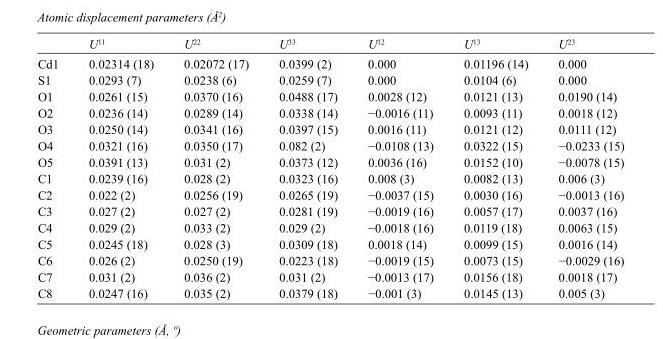table: (36, 36, 623, 299)
table column: (72, 36, 168, 299), (352, 36, 448, 299), (168, 36, 263, 299), (448, 36, 542, 299), (263, 36, 352, 299), (542, 36, 623, 299), (36, 36, 72, 299)
table column header: (36, 36, 623, 53)
table row: (36, 53, 623, 71), (36, 36, 623, 53), (36, 71, 623, 88), (36, 120, 623, 137), (36, 153, 623, 170), (36, 186, 623, 203), (36, 235, 623, 252), (36, 268, 623, 285), (36, 88, 623, 104), (36, 104, 623, 120), (36, 137, 623, 153), (36, 170, 623, 186), (36, 203, 623, 219), (36, 219, 623, 235), (36, 252, 623, 268), (36, 285, 623, 299)
